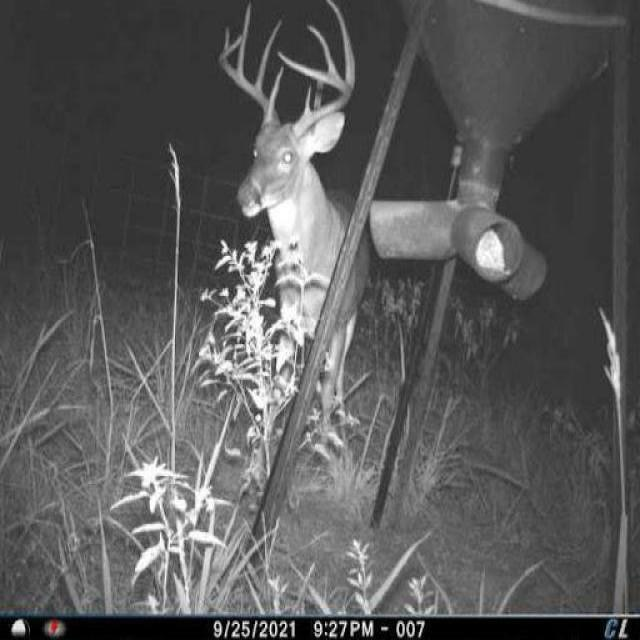deer: (208, 0, 372, 473)
